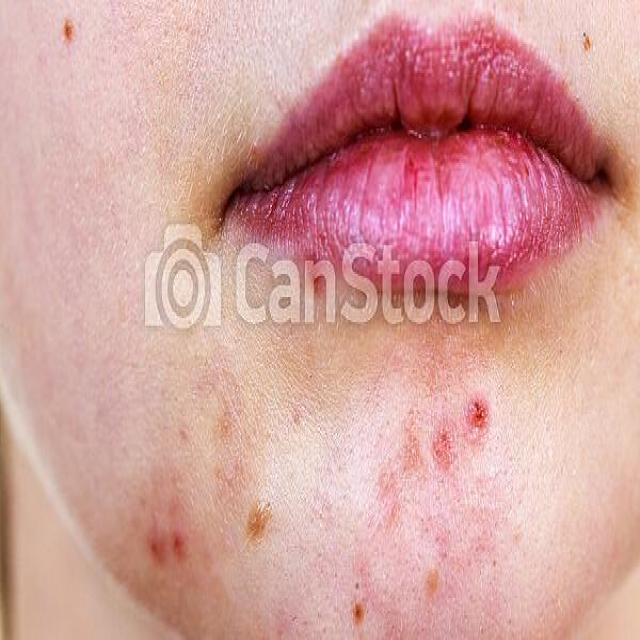blackheads: (464, 385, 489, 439), (247, 492, 271, 540), (349, 563, 368, 623), (146, 525, 168, 573), (168, 516, 189, 562), (433, 419, 450, 464), (402, 419, 417, 464), (59, 11, 78, 46), (214, 406, 232, 437), (581, 25, 591, 54)
